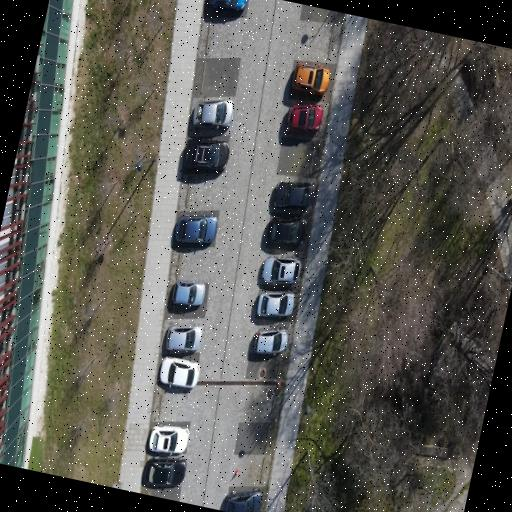car: (183, 138, 228, 170), (141, 457, 185, 489), (159, 356, 199, 387), (266, 217, 306, 247), (148, 424, 188, 454), (175, 214, 217, 242), (192, 99, 232, 128), (291, 63, 329, 92), (273, 181, 312, 209), (262, 256, 300, 282), (286, 103, 322, 130), (166, 324, 202, 351), (224, 487, 262, 511), (256, 291, 294, 315), (172, 279, 204, 305), (254, 329, 287, 353), (210, 0, 246, 10)
